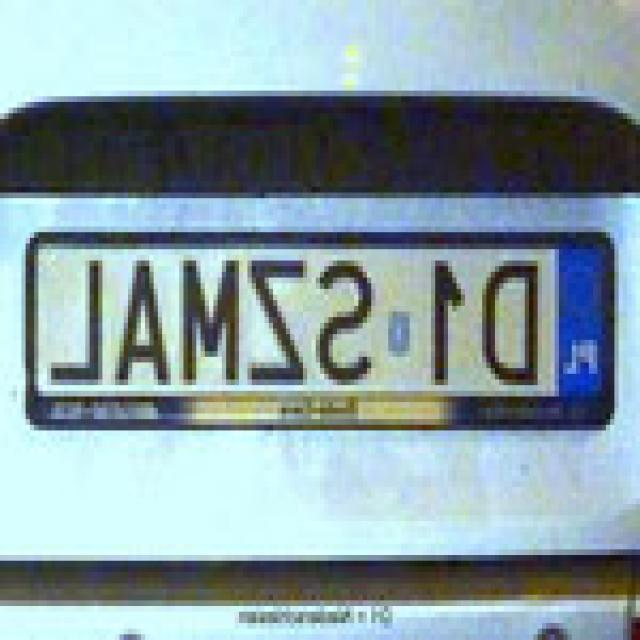pl_license_plate: (39, 232, 610, 385)
